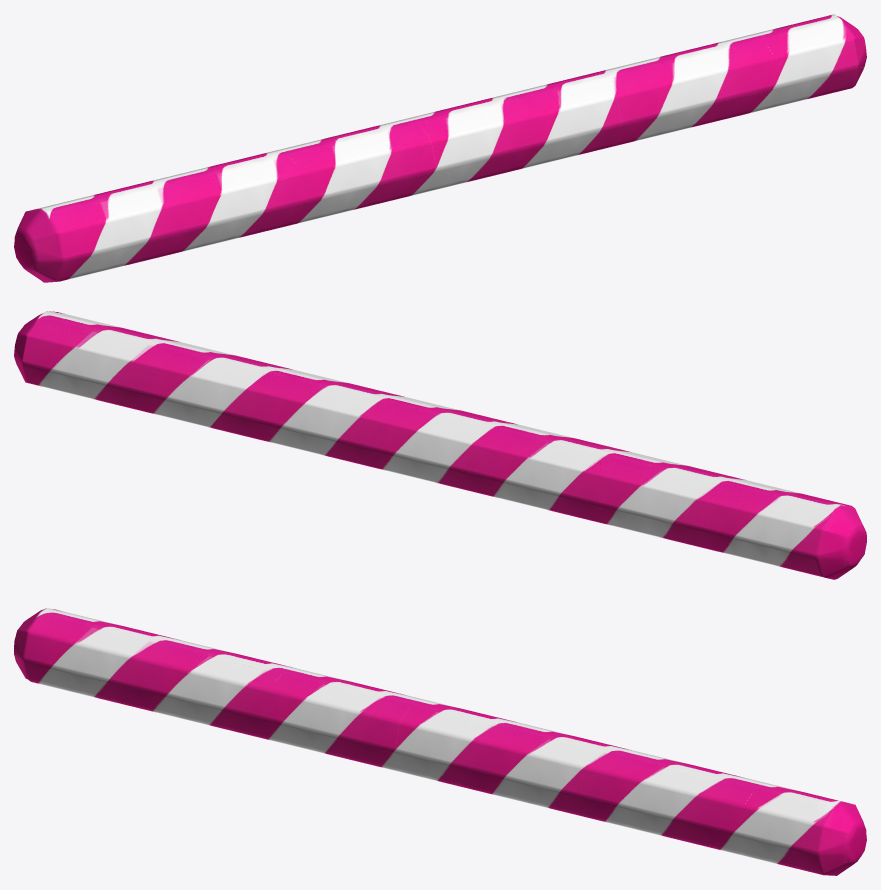
File: obstacle-rotatebar.glb
The picture shows the model from 3 angles, top to bottom: view 1: azimuth 30°, elevation 25°; view 2: azimuth 150°, elevation 25°; view 3: azimuth 330°, elevation 25°; orthographic projection.
Bounding box in the file's own units: 1.91 × 0.1526 × 0.1605.
Materials: 1 (1 with a texture image).
